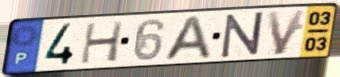4: (42, 22, 77, 68)
6: (132, 17, 167, 63)
A: (161, 13, 214, 63)
H: (78, 20, 126, 66)
N: (220, 10, 265, 60)
V: (265, 7, 308, 57)
